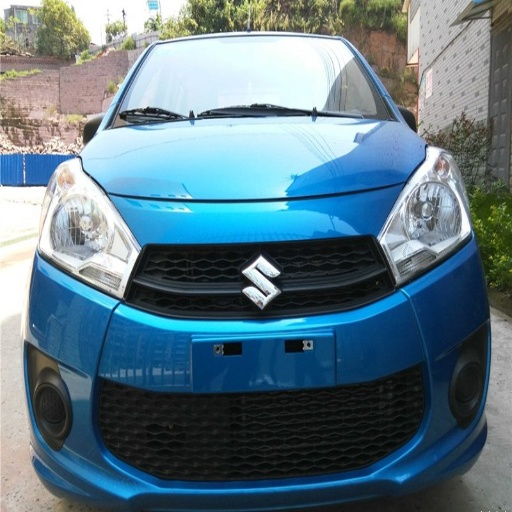front_bumper: (33, 181, 490, 511)
front_right_light: (39, 158, 128, 294)
